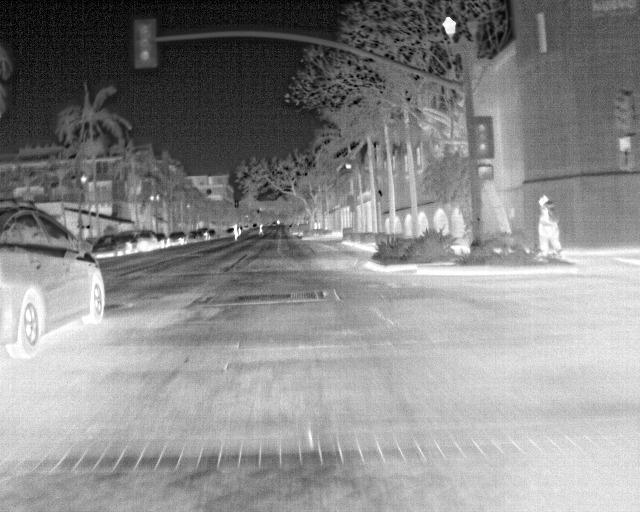bicycle: (1, 204, 104, 354), (91, 234, 126, 260), (133, 230, 157, 253), (165, 230, 185, 246)
empty: (534, 196, 564, 255), (229, 223, 242, 243), (255, 222, 267, 239)
